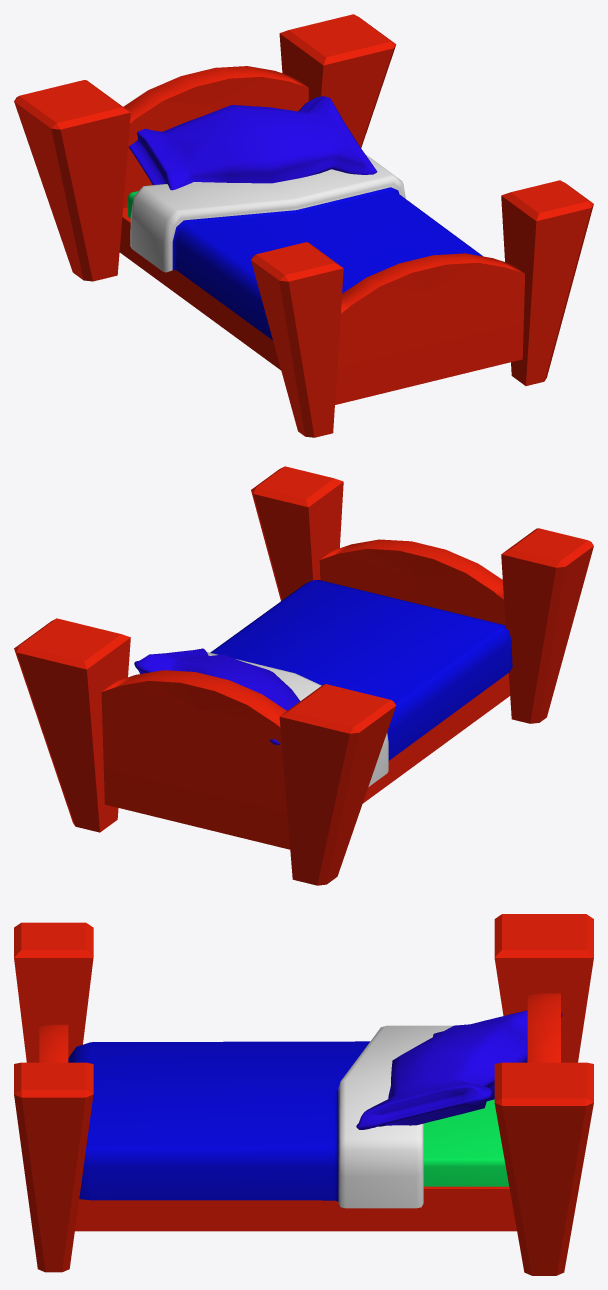
Rendered from Bed_Rework.fbx.
3 views of the same model, one above another, from view 1: azimuth 30°, elevation 25°; view 2: azimuth 150°, elevation 25°; view 3: azimuth 270°, elevation 25° (orthographic). The views are drawn at different scales.
Parts seen in each view (by area): view 1: Somier, Couverture, Oreiller; view 2: Somier, Couverture, Oreiller; view 3: Somier, Couverture, Oreiller, Matelas.
Boxes of the visible parts, x1=… form: Somier: x1=14, y1=14, x2=593, y2=437; Couverture: x1=130, y1=155, x2=482, y2=340; Oreiller: x1=128, y1=96, x2=377, y2=190; Somier: x1=14, y1=466, x2=593, y2=885; Couverture: x1=207, y1=580, x2=512, y2=786; Oreiller: x1=134, y1=648, x2=300, y2=744; Somier: x1=14, y1=914, x2=593, y2=1275; Couverture: x1=68, y1=1025, x2=453, y2=1208; Oreiller: x1=356, y1=1010, x2=562, y2=1129; Matelas: x1=423, y1=1099, x2=509, y2=1186.
Size of the model in its own units: 287 by 142 by 370.
